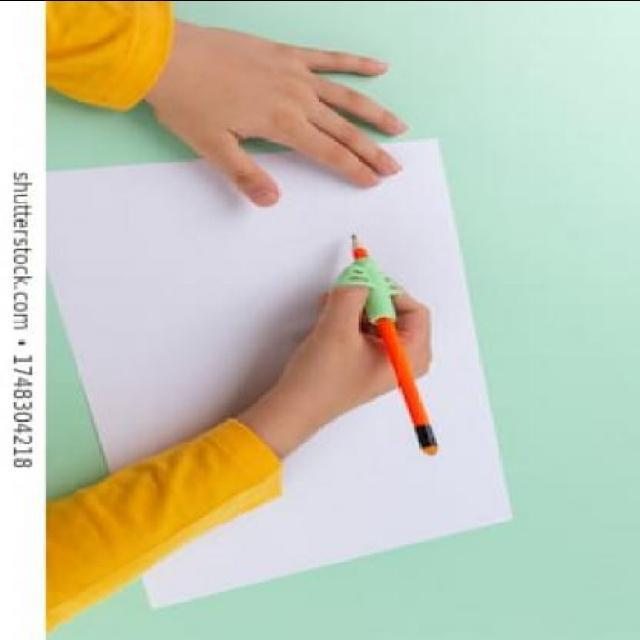pencil: (338, 232, 376, 260)
